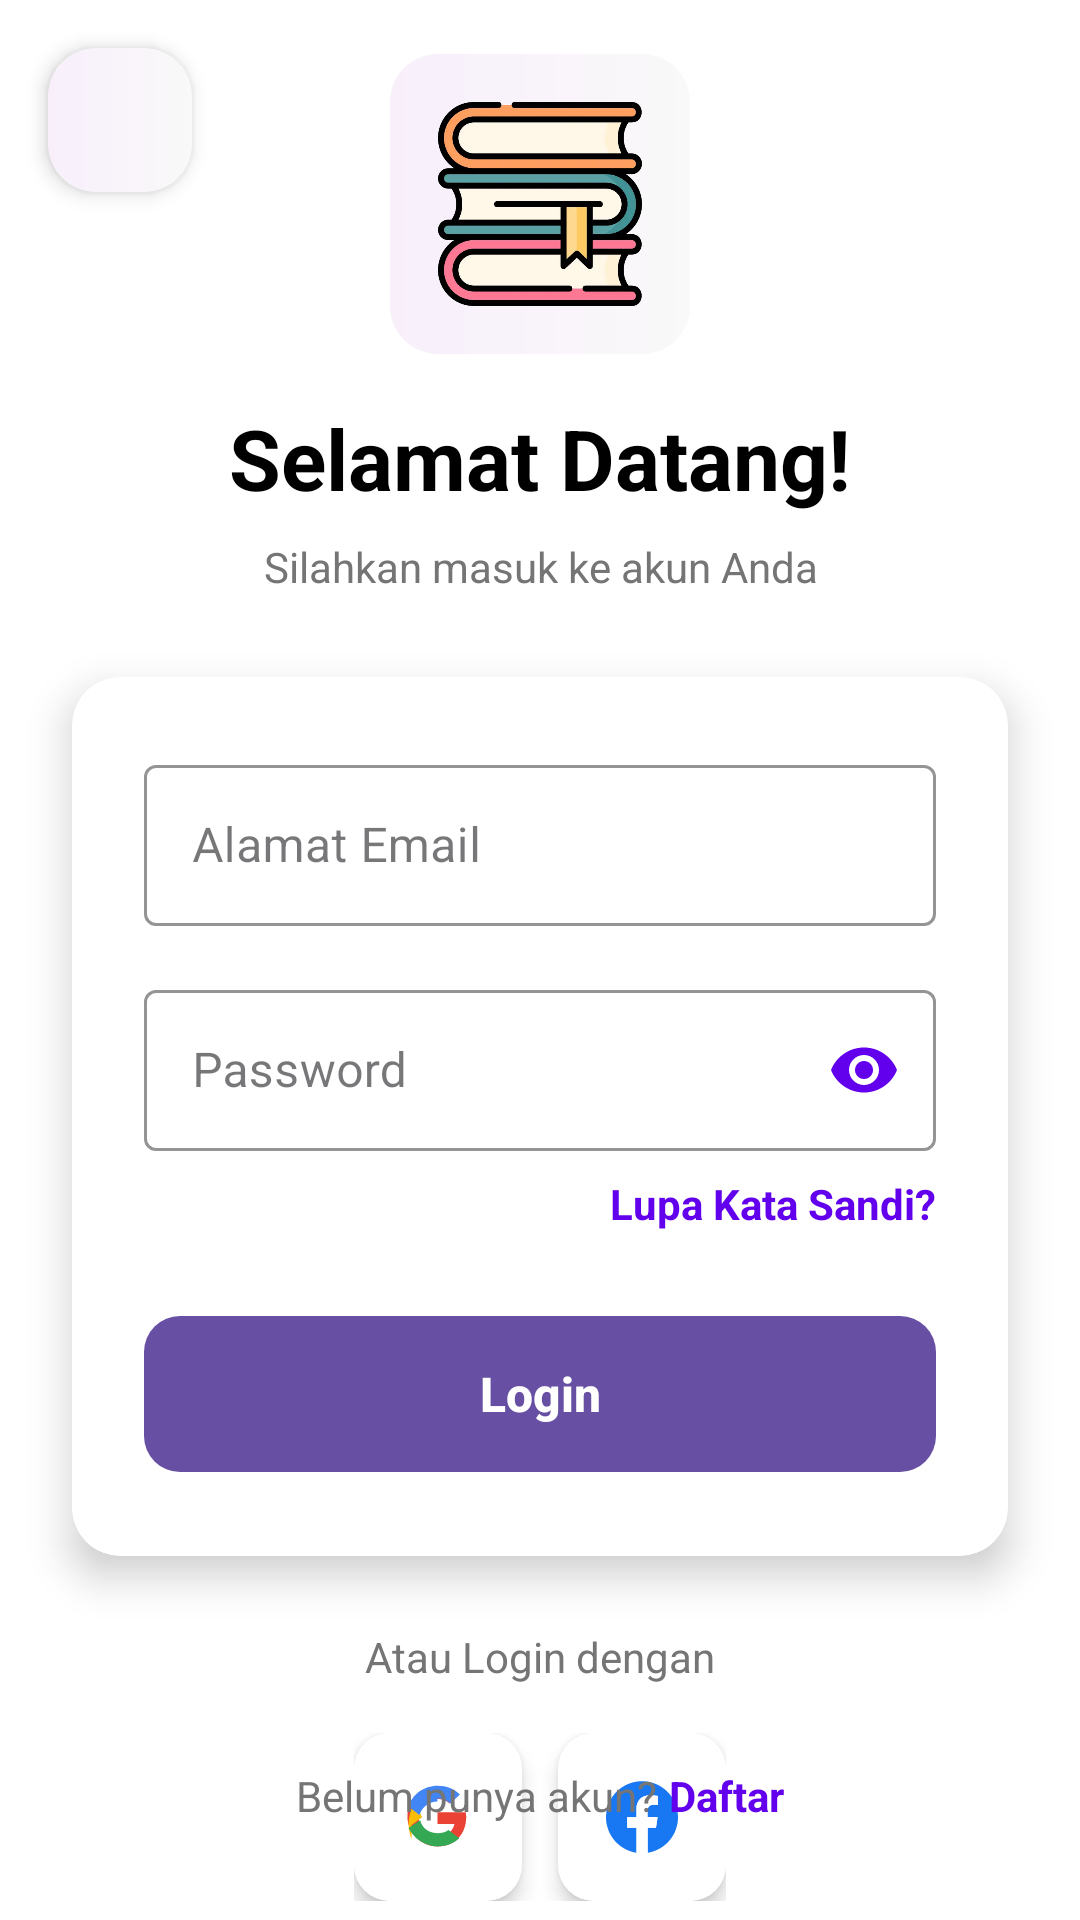

Named icons in this screenshot (1080px×1920px) and their bounding boxes, (x1, y1, x2, y2):
books: (438, 102, 642, 306)
